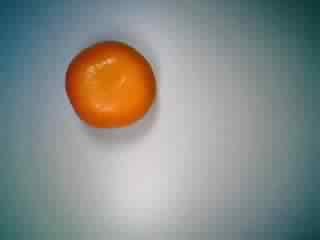orange: (62, 31, 157, 133)
